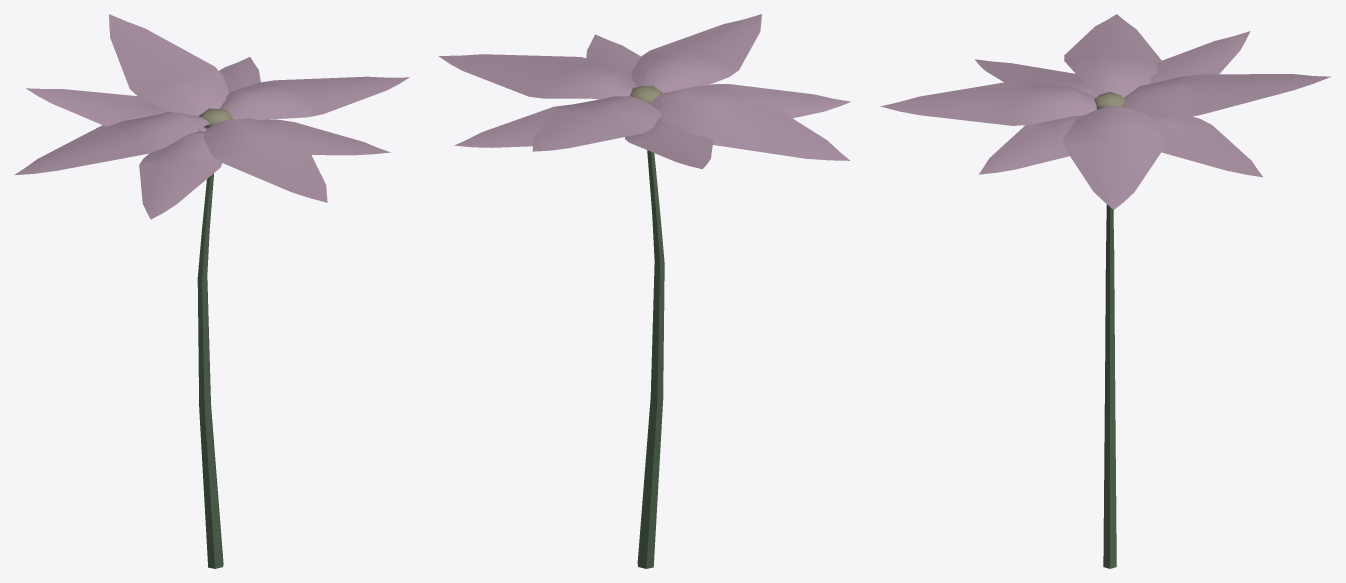
File: M_Flower1.fbx
3 views of the same model, side by side, from view 1: azimuth 30°, elevation 25°; view 2: azimuth 150°, elevation 25°; view 3: azimuth 270°, elevation 25° (orthographic). The views are drawn at different scales.
Visible parts, largest first — view 1: polySurface252; view 2: polySurface252; view 3: polySurface252.
Boxes of the visible parts, x1,y1,x2,y2 form: polySurface252: [14, 14, 409, 568]; polySurface252: [438, 14, 851, 568]; polySurface252: [880, 14, 1330, 568].
Size of the model in its own units: 0.3278 by 0.3756 by 0.3147.
